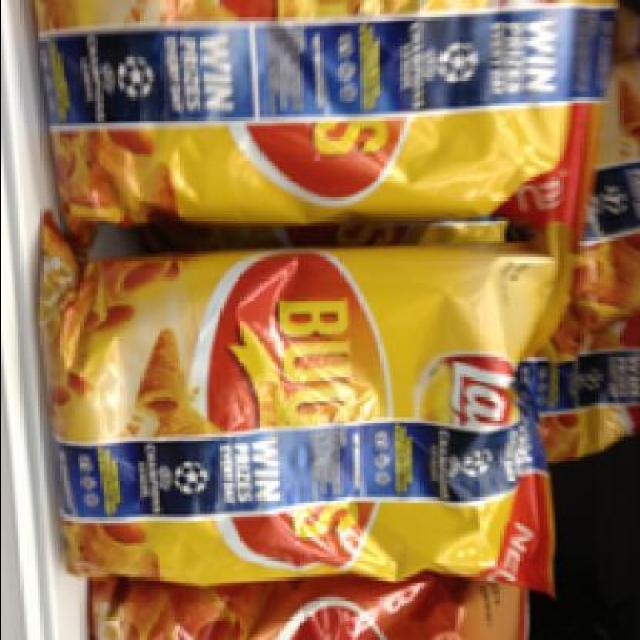Chips: (46, 230, 574, 592), (34, 2, 603, 226)
